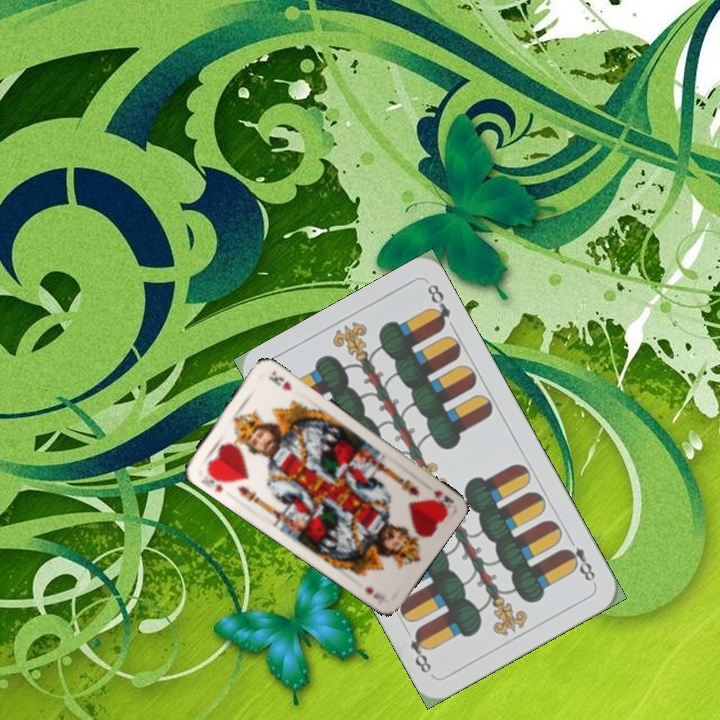E8: (560, 532, 598, 584)
HK: (202, 465, 228, 495), (430, 486, 456, 506)
